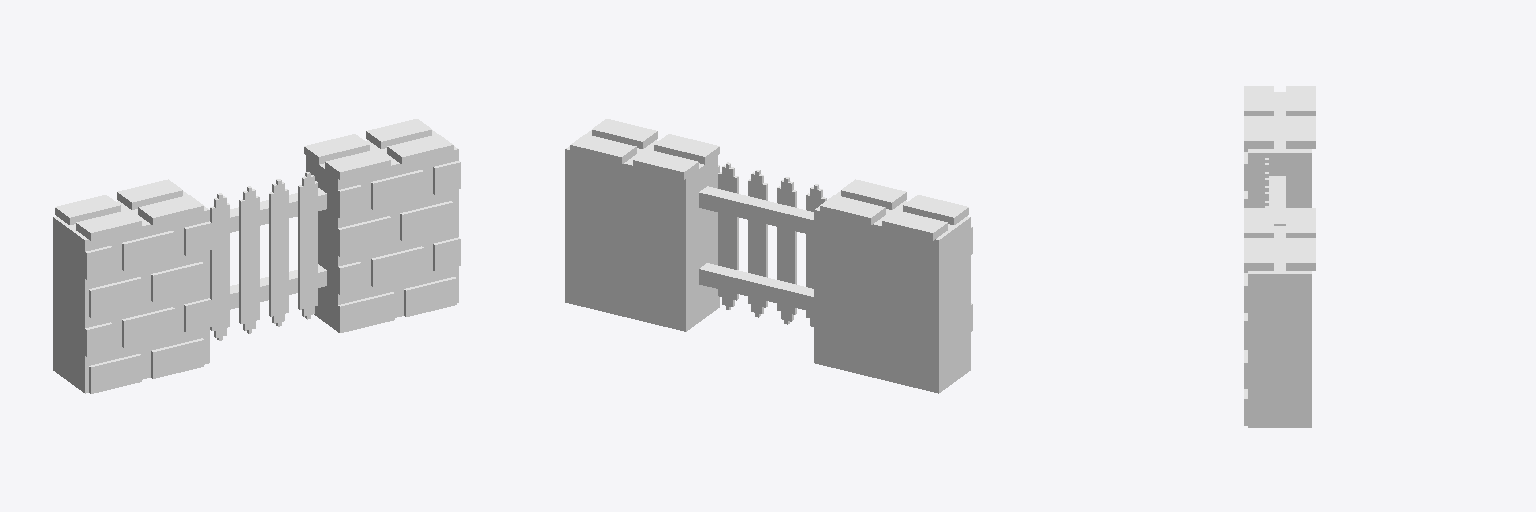
The model's file is Fence-3.obj.
3 renders of one model, left to right at view 1: azimuth 30°, elevation 25°; view 2: azimuth 150°, elevation 25°; view 3: azimuth 270°, elevation 25°, orthographic.
Parts seen in each view (by area): view 1: object 1; view 2: object 1; view 3: object 1.
Boxes of the visible parts, box(x1,y1,x2,y2) form: object 1: box(53, 119, 460, 393); object 1: box(565, 119, 972, 393); object 1: box(1244, 86, 1315, 427).
Bounding box in the file's own units: 10.2 × 4.2 × 1.7.